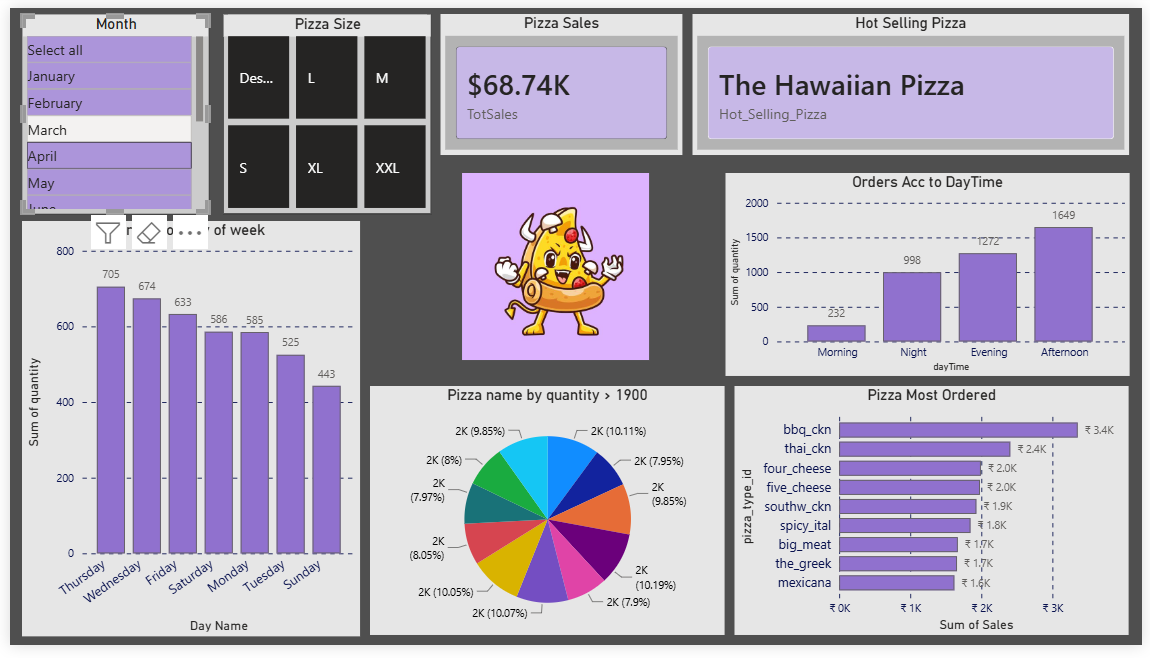

What the dashboard file says about the page in this screenshot:
{"tool":"powerbi","page":{"name":"Page 1","canvas":[1280,720],"ordinal":0},"visuals":[{"type":"cardVisual","title":"Pizza Sales","fields":{"Data":["orderDetails.TotSales"]},"box":[486.7,6.4,273.6,159.1],"z":0},{"type":"columnChart","title":"Orders on day of week","fields":{"Category":["order_time.Day Name"],"Y":["Sum(orderDetails.quantity)"]},"box":[14.3,240.2,381.7,469.2],"z":1000},{"type":"barChart","title":"Pizza Most Ordered ","fields":{"Y":["Sum(orderDetails.Sales)"],"Category":["pizzaDetails.pizza_type_id"]},"box":[819.2,427.9,445.4,281.5],"z":2000},{"type":"pieChart","title":"Pizza name by quantity > 1900","fields":{"Series":["pizzaDetails.name"],"Y":["Sum(orderDetails.quantity)"]},"box":[407.2,427.9,400.8,281.5],"z":3000},{"type":"cardVisual","title":"Hot Selling Pizza","fields":{"Data":["orderDetails.Hot_Selling_Pizza"]},"box":[771.4,6.4,493.1,159.1],"z":4000},{"type":"listSlicer","fields":{"Values":["order_time.Month"]},"box":[14.3,6.4,211.6,225.9],"z":5000},{"type":"columnChart","title":"Orders Acc to DayTime","fields":{"Category":["order_time.dayTime"],"Y":["Sum(orderDetails.quantity)"]},"box":[808,186.1,456.5,229],"z":6000},{"type":"image","box":[507.4,186.1,219.5,211.6],"z":7000},{"type":"advancedSlicerVisual","title":"Pizza Size","fields":{"Values":["orderDetails.size"]},"box":[240.2,6.4,235.4,225.9],"z":8000}]}

Visuals, with their boxes in screenshot pixels (x1, y1, x2, y2), scaled from the page's 1280x720 canvas onto the 1150x658 screenshot:
"Pizza Sales" cardVisual: [x1=437, y1=6, x2=683, y2=151]
"Orders on day of week" columnChart: [x1=13, y1=220, x2=356, y2=648]
"Pizza Most Ordered " barChart: [x1=736, y1=391, x2=1136, y2=648]
"Pizza name by quantity > 1900" pieChart: [x1=366, y1=391, x2=726, y2=648]
"Hot Selling Pizza" cardVisual: [x1=693, y1=6, x2=1136, y2=151]
listSlicer - order_time.Month: [x1=13, y1=6, x2=203, y2=212]
"Orders Acc to DayTime" columnChart: [x1=726, y1=170, x2=1136, y2=379]
image: [x1=456, y1=170, x2=653, y2=363]
"Pizza Size" advancedSlicerVisual: [x1=216, y1=6, x2=427, y2=212]
